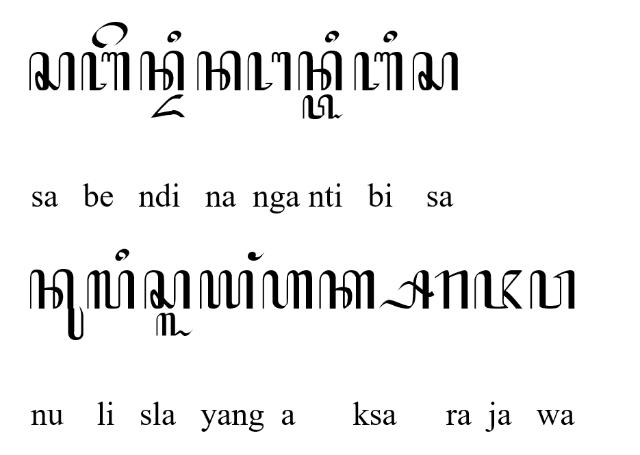_d: (151, 94, 185, 118)
_l: (156, 313, 194, 337)
_s: (378, 270, 434, 308)
_t: (302, 95, 343, 119)
b: (81, 51, 131, 91), (353, 51, 402, 91)
e: (92, 22, 128, 49)
h: (262, 270, 314, 310)
i: (382, 29, 398, 43), (167, 29, 181, 42), (325, 29, 339, 42), (115, 248, 129, 260)
j: (474, 270, 522, 308)
k: (318, 270, 374, 310)
l: (87, 269, 135, 309)
n: (196, 51, 242, 91), (140, 51, 184, 91), (298, 51, 342, 91)
ng: (248, 251, 264, 261)
nga: (246, 51, 292, 91)
nu: (30, 267, 84, 340)
r: (436, 269, 468, 309)
s: (28, 51, 76, 91), (412, 51, 460, 91), (144, 270, 190, 308)
w: (530, 269, 576, 309)
y: (198, 270, 254, 309)
